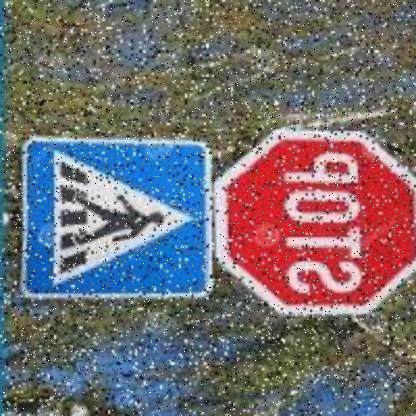Pedestrian Crossing: (16, 133, 220, 308)
